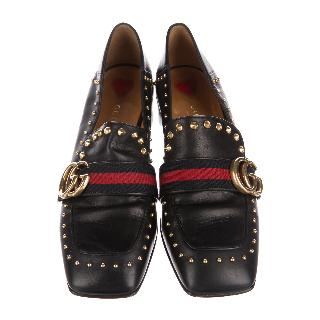loafers: (50, 14, 264, 306)
